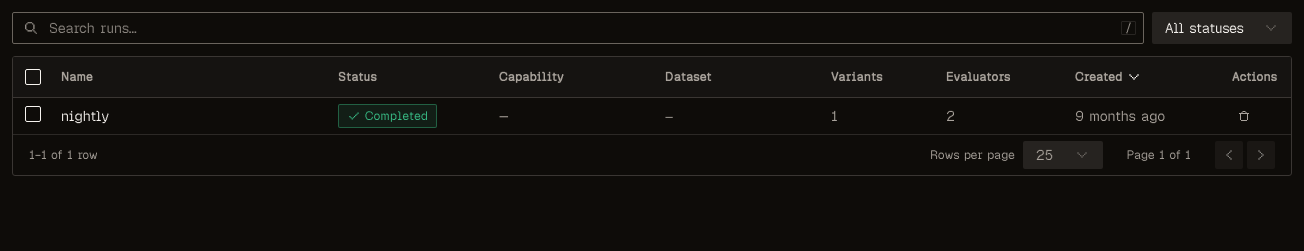
Test: RunsTable row click › selects the run without navigating when the checkbox is clicked
Click the checkbox named "Select run nightly" at (33, 114), box 25,106 -> 41,122
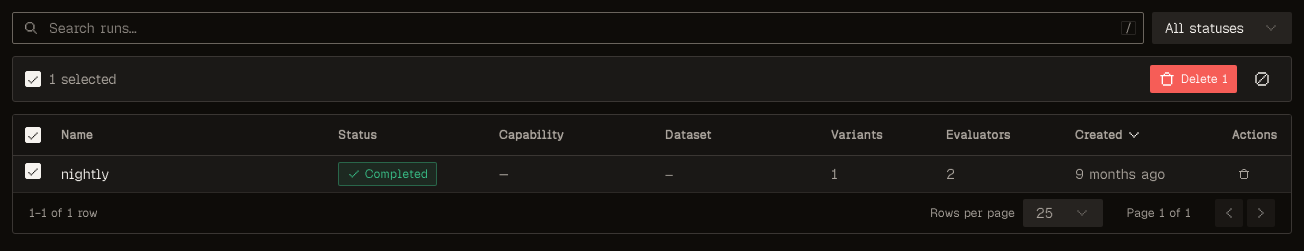
expect the text "1 selected" is shown: met, box 49,71 -> 117,87
